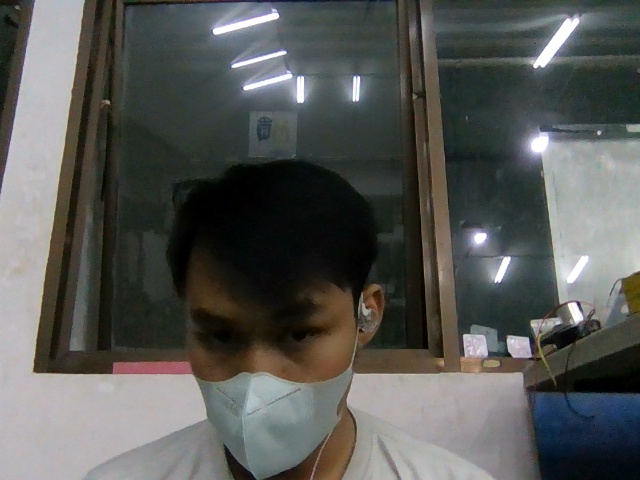mask_on: (194, 369, 351, 480)
